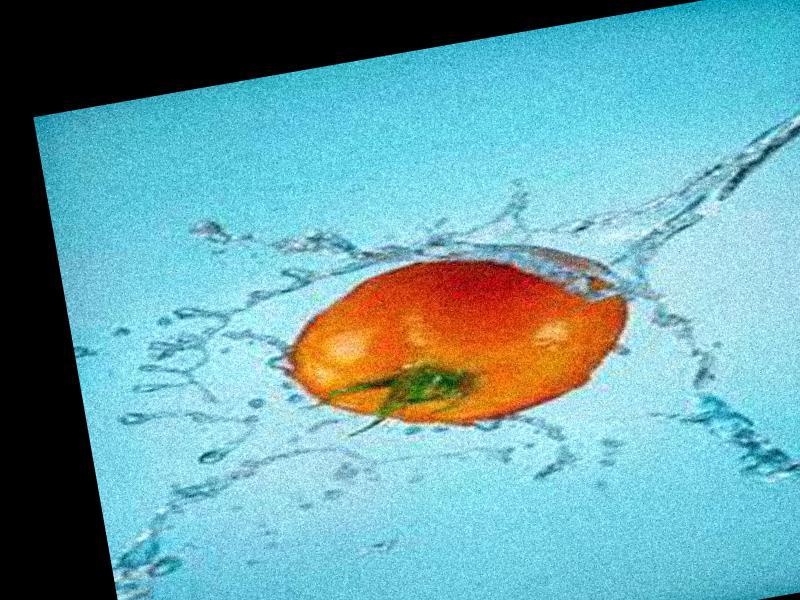Tomato: (274, 226, 641, 450)
